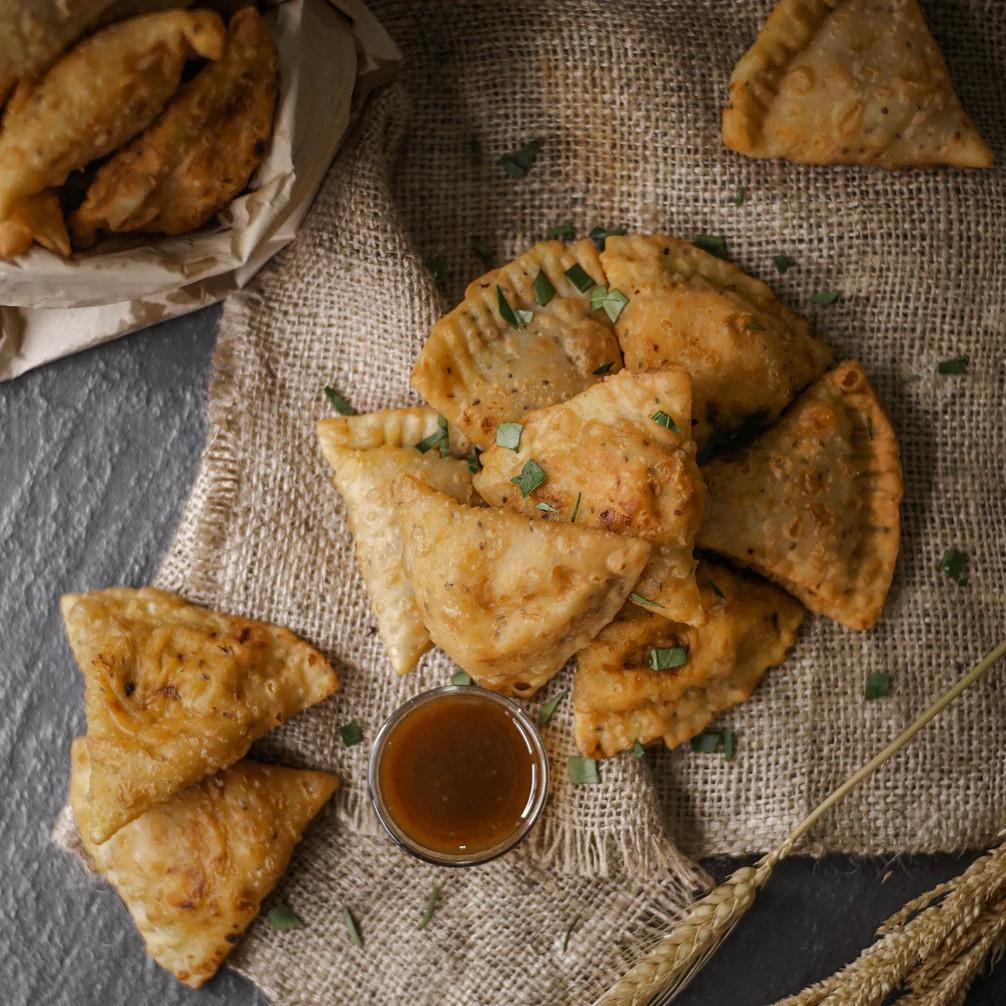Samosa: (63, 584, 346, 850), (70, 750, 338, 986), (472, 366, 708, 626), (693, 358, 903, 629), (398, 478, 650, 694), (723, 0, 1006, 169), (600, 239, 834, 439), (313, 408, 457, 672)
